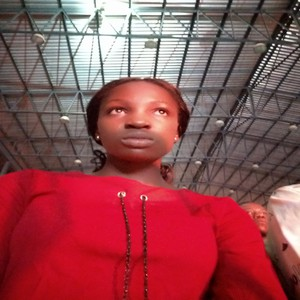Fulokoja_female_student: (99, 75, 197, 300)
